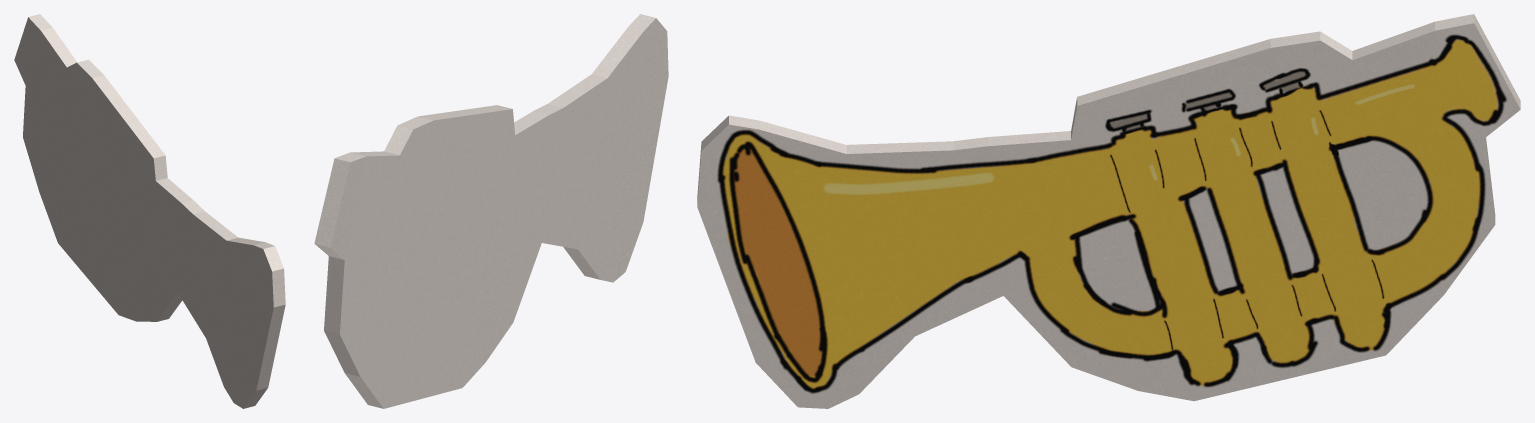
File: trump left.fbx
3 views of the same model, side by side, from view 1: azimuth 30°, elevation 25°; view 2: azimuth 150°, elevation 25°; view 3: azimuth 270°, elevation 25° (orthographic). The views are drawn at different scales.
Visible parts, largest first — view 1: Plane; view 2: Plane; view 3: Plane.
Part boxes in pixels (box(x1,y1,x2,y2)): Plane: box(14, 14, 285, 408); Plane: box(314, 14, 668, 408); Plane: box(697, 14, 1520, 408).
Bounding box in the file's own units: 1.41 × 20.41 × 39.77.
